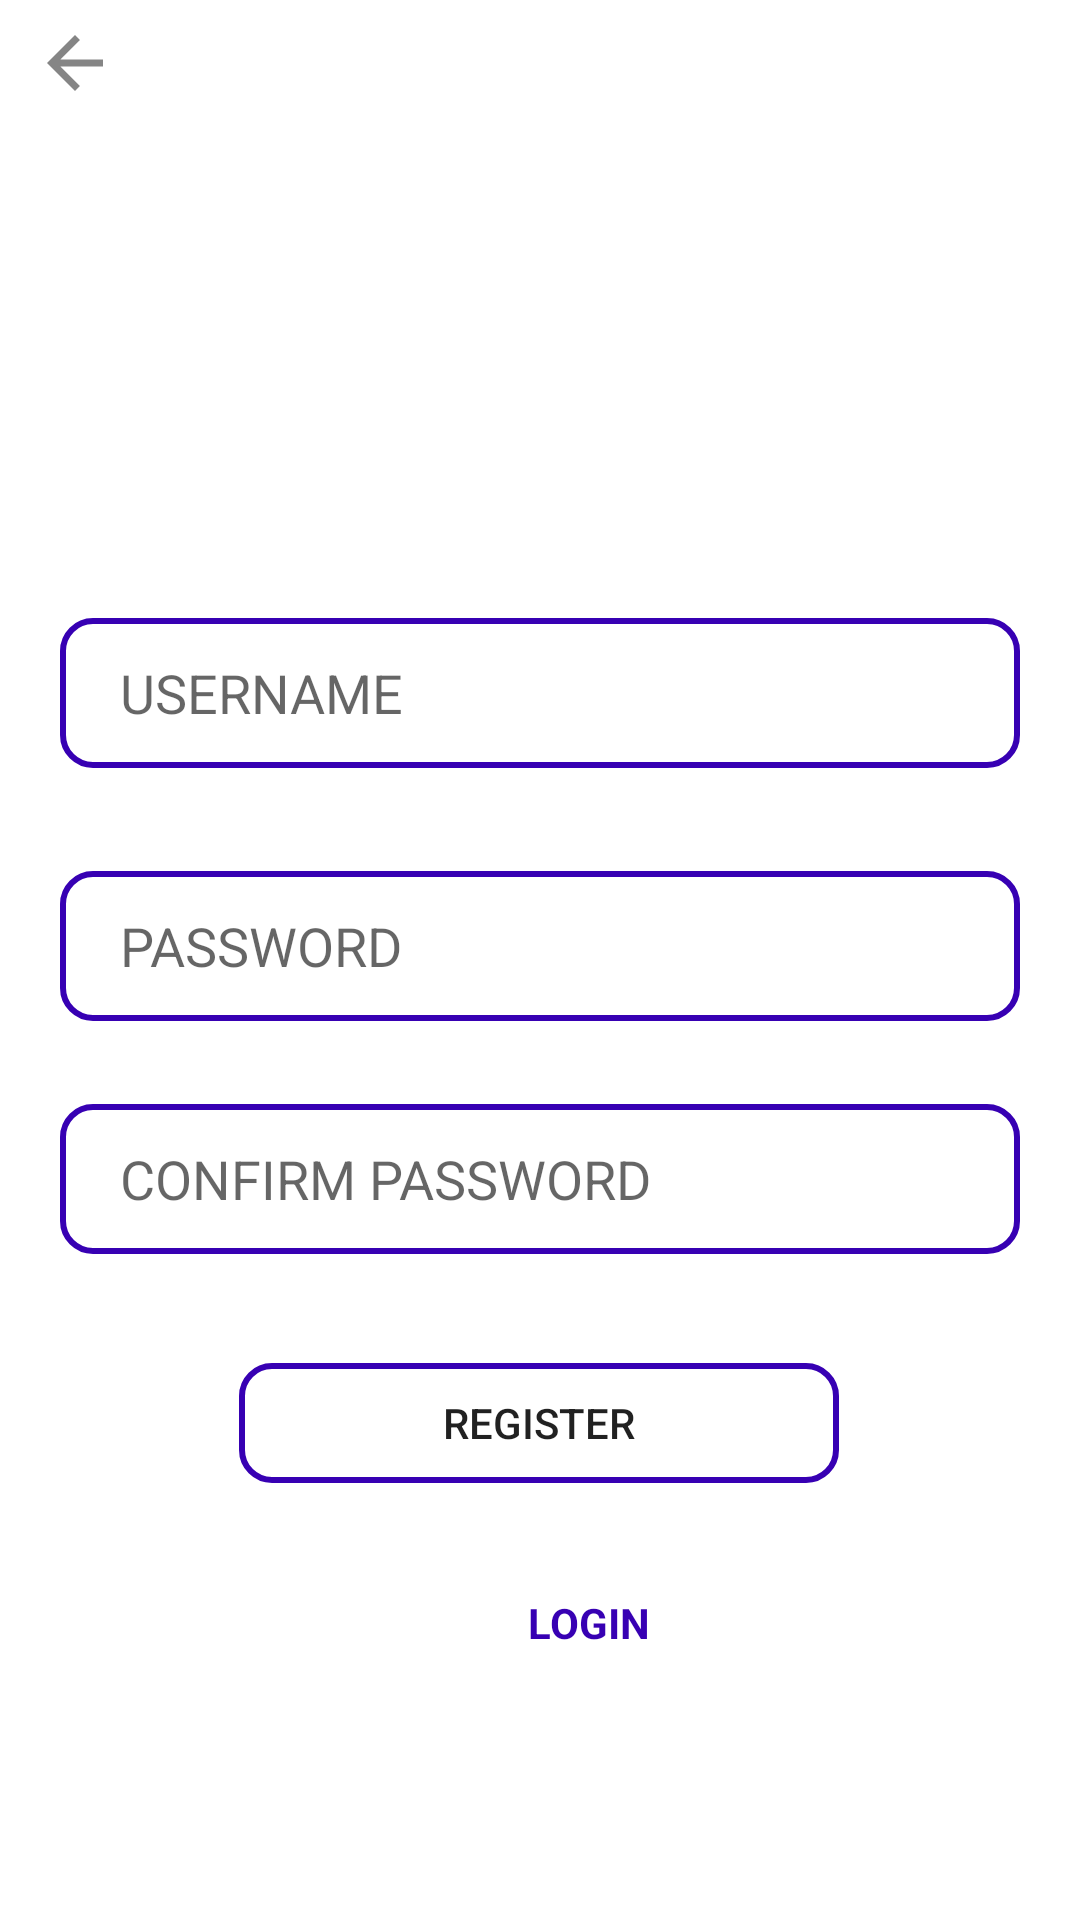

Named icons in this screenshot (1080*1920) and their centers, (x,y):
backwards: (75,63)
